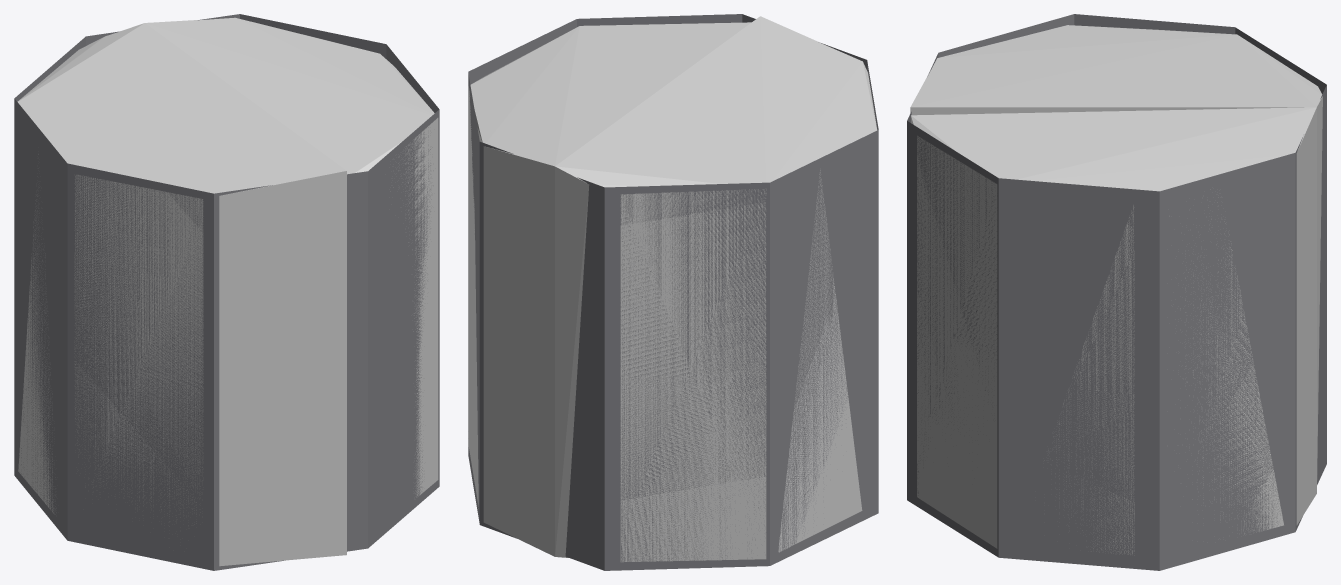
The model's file is SM_Prop_CenterTube_Glass_01.fbx.
3 views of the same model, side by side, from view 1: azimuth 30°, elevation 25°; view 2: azimuth 150°, elevation 25°; view 3: azimuth 270°, elevation 25° (orthographic).
Visible parts, largest first — view 1: SM_Prop_CenterTube_Glass_01_ConvexHulls, SM_Prop_CenterTube_Glass_01_LOD0; view 2: SM_Prop_CenterTube_Glass_01_ConvexHulls, SM_Prop_CenterTube_Glass_01_LOD0; view 3: SM_Prop_CenterTube_Glass_01_LOD0, SM_Prop_CenterTube_Glass_01_ConvexHulls.
Boxes of the visible parts, x1,y1,x2,y2 form: SM_Prop_CenterTube_Glass_01_ConvexHulls: (17, 17, 438, 566); SM_Prop_CenterTube_Glass_01_LOD0: (14, 14, 439, 570); SM_Prop_CenterTube_Glass_01_ConvexHulls: (468, 16, 877, 562); SM_Prop_CenterTube_Glass_01_LOD0: (468, 14, 878, 570); SM_Prop_CenterTube_Glass_01_LOD0: (907, 14, 1326, 570); SM_Prop_CenterTube_Glass_01_ConvexHulls: (910, 25, 1322, 555).
Bounding box in the file's own units: 327 × 327 × 332.
1 material, 1 textured.
